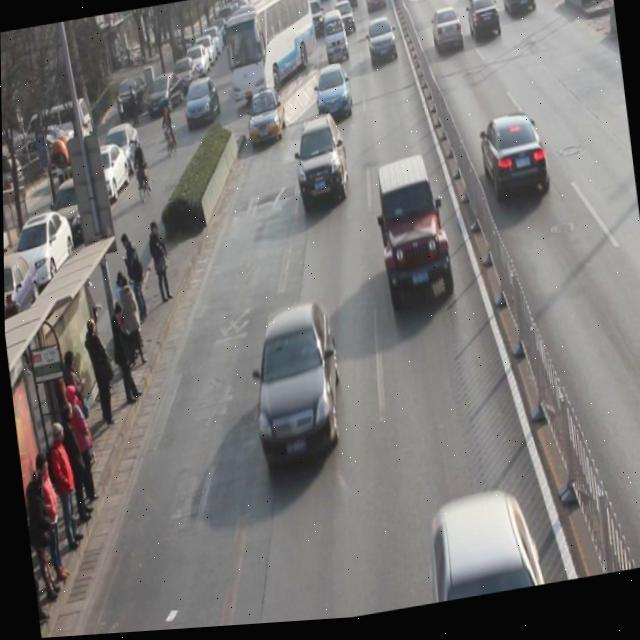car: (242, 300, 348, 475), (423, 491, 547, 609), (372, 158, 456, 317), (478, 113, 552, 213), (290, 118, 351, 216), (243, 90, 288, 150), (312, 66, 355, 127), (465, 0, 502, 50), (365, 21, 399, 73), (430, 11, 465, 61), (501, 0, 537, 28), (332, 3, 357, 42), (463, 0, 492, 8)
truck: (320, 11, 350, 70)
van: (218, 0, 319, 110)
